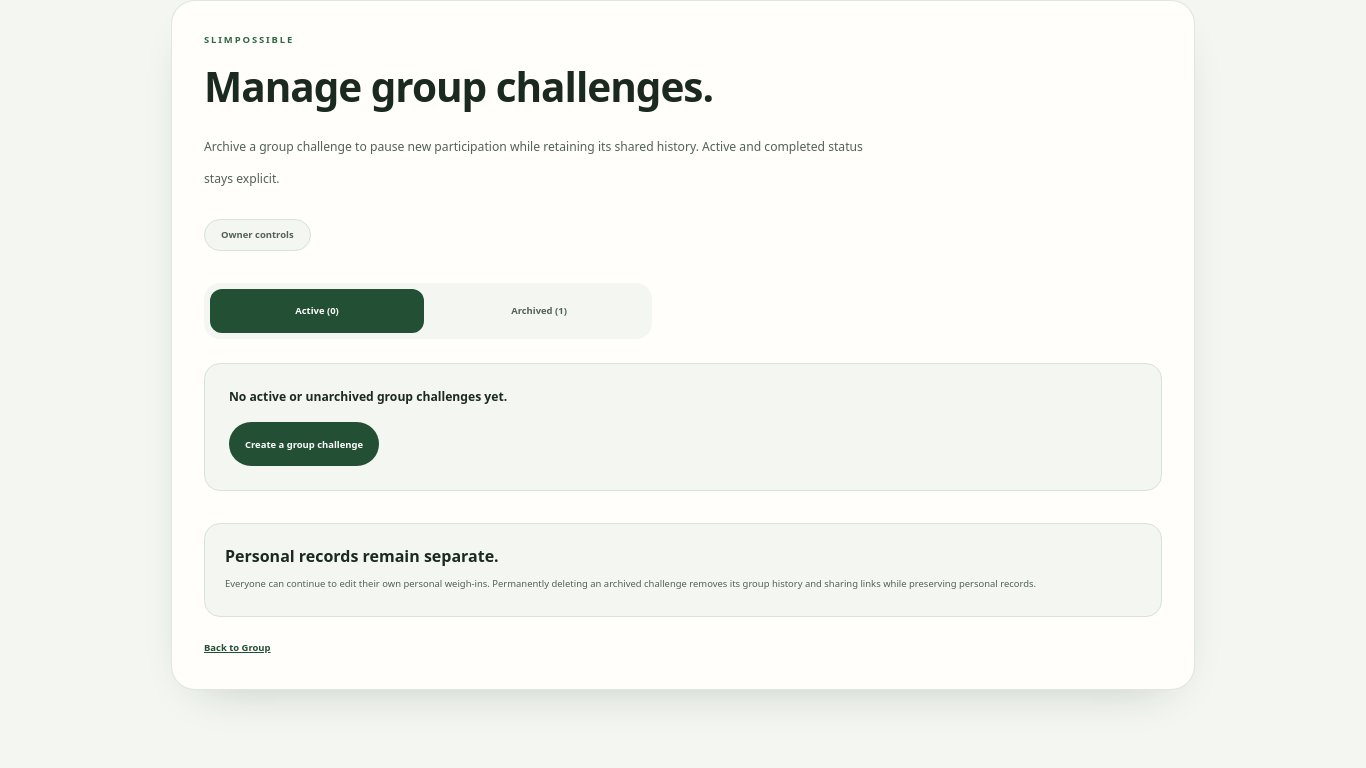
ChallengeManagementPage › requires the exact archived challenge name and removes it only after confirmed success
The image size is (1366, 768).
Step 1. Click the tab "Archived (1)" → (539, 310), box 432,288 -> 646,332
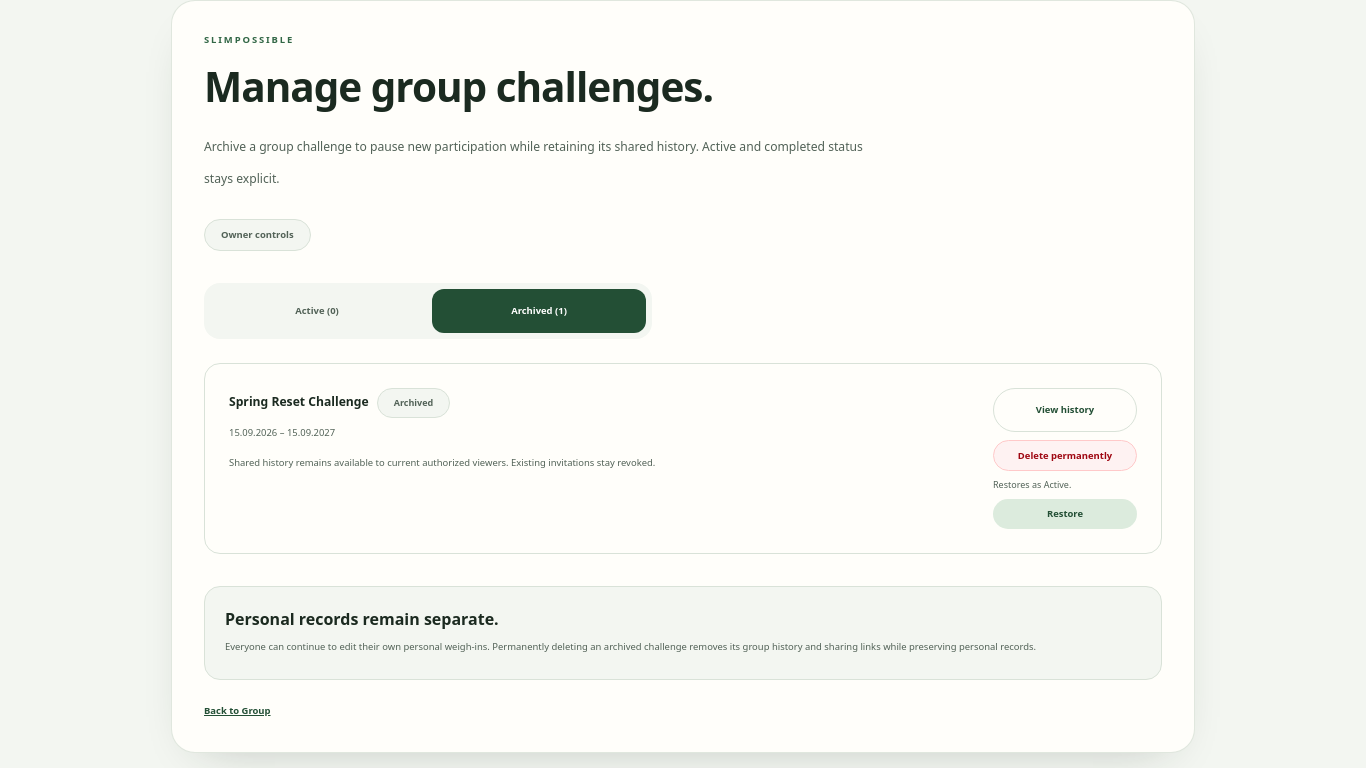
Step 2. Click the button "Delete permanently" → (1065, 455), box 993,440 -> 1137,471
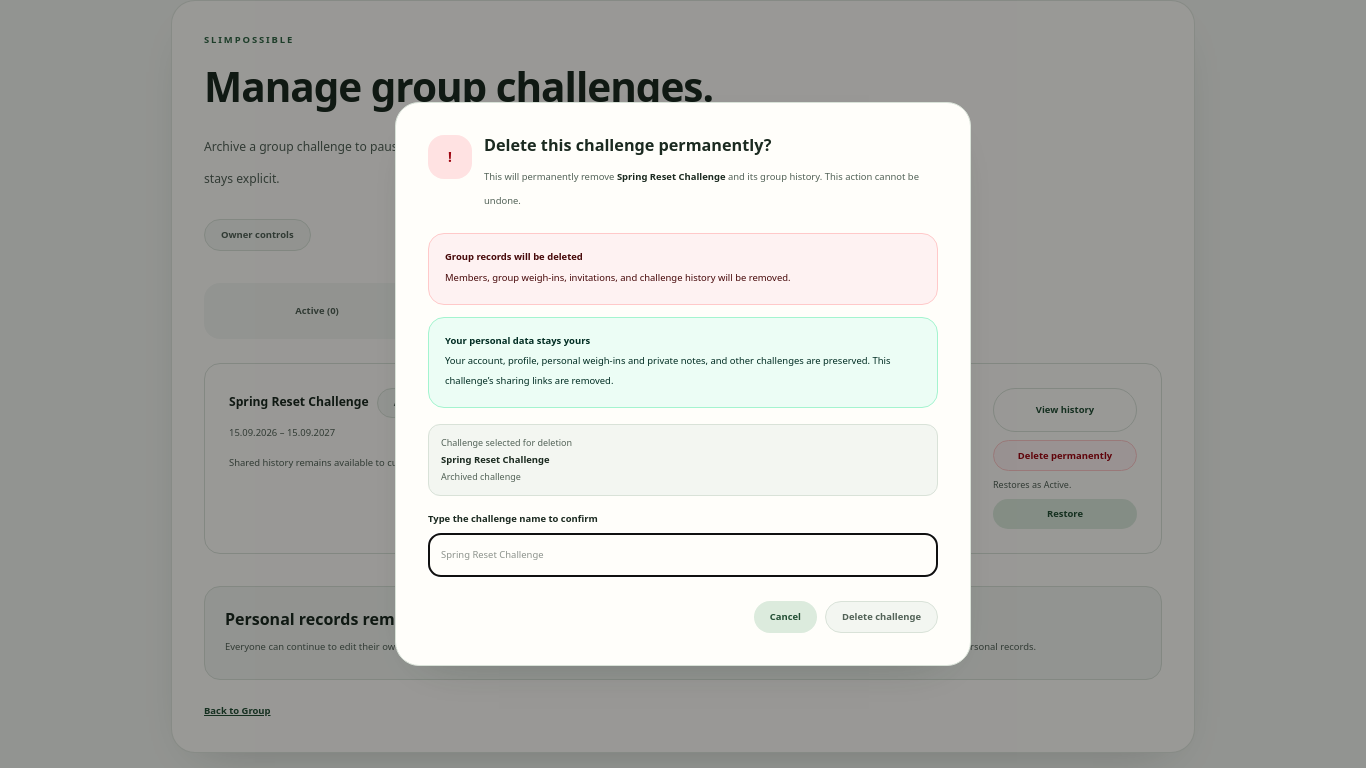
Check: the dialog "Delete this challenge permanently?" shows "Spring Reset Challenge", box 617,170 -> 726,183
Check: the dialog "Delete this challenge permanently?" shows "group history", box 484,170 -> 919,207
Check: the dialog "Delete this challenge permanently?" shows "personal weigh-ins and private notes", box 445,354 -> 890,387
Step 3. Type "spring reset challenge" into the field labelled "Type the challenge name to confirm" → (683, 555), box 428,533 -> 938,577
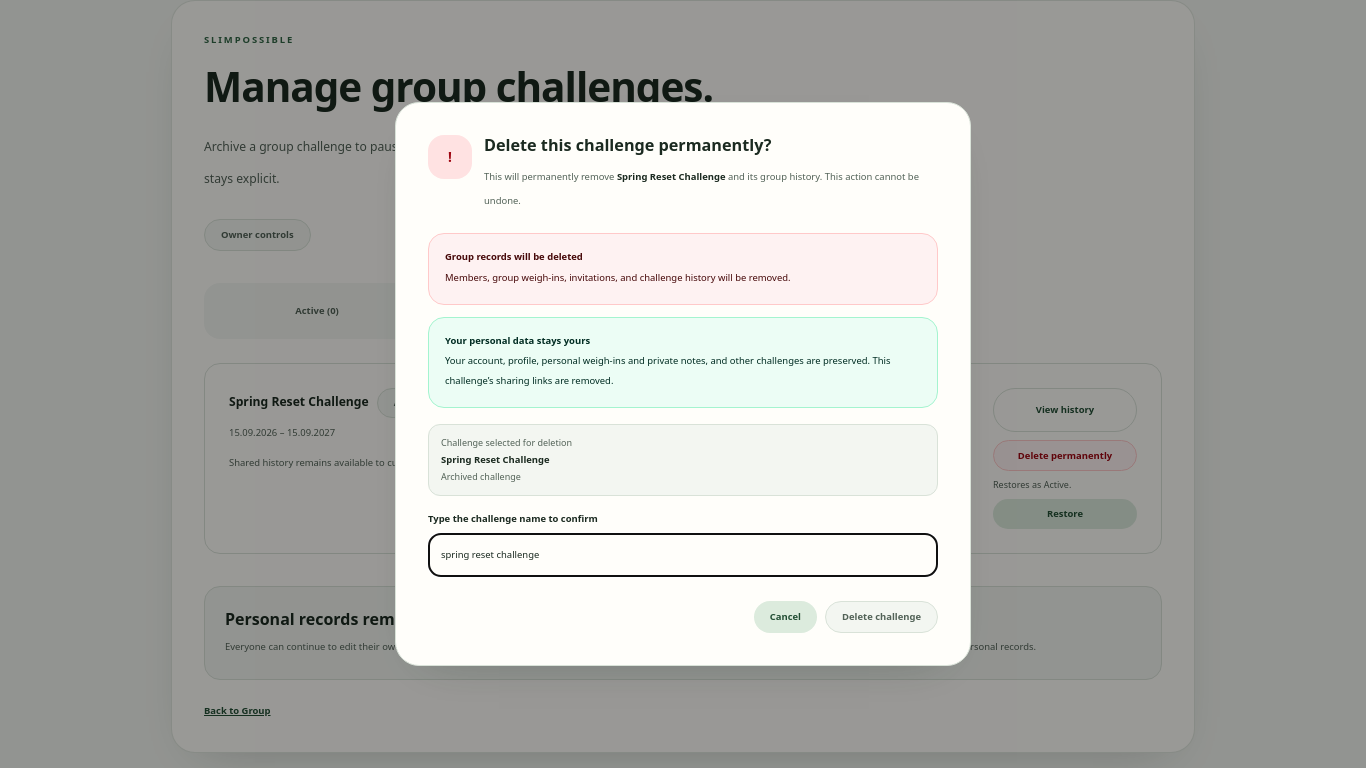
Check: the button "Delete challenge" is disabled, box 825,601 -> 938,632
Step 4. Replace the text in the field labelled "Type the challenge name to confirm" with "Spring Reset Challenge" → (683, 555), box 428,533 -> 938,577
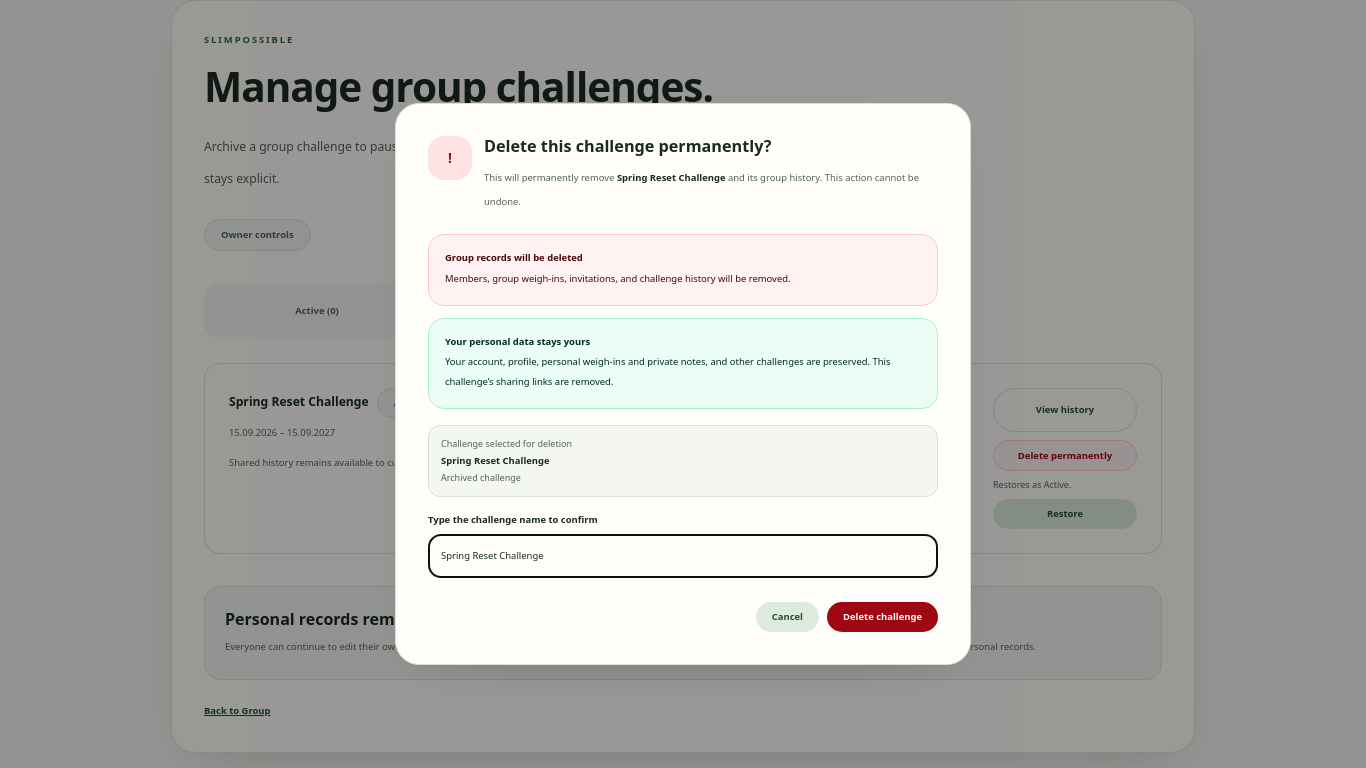
Check: the button "Delete challenge" is enabled
Step 5. Click the button "Delete challenge" → (882, 617), box 827,602 -> 938,632
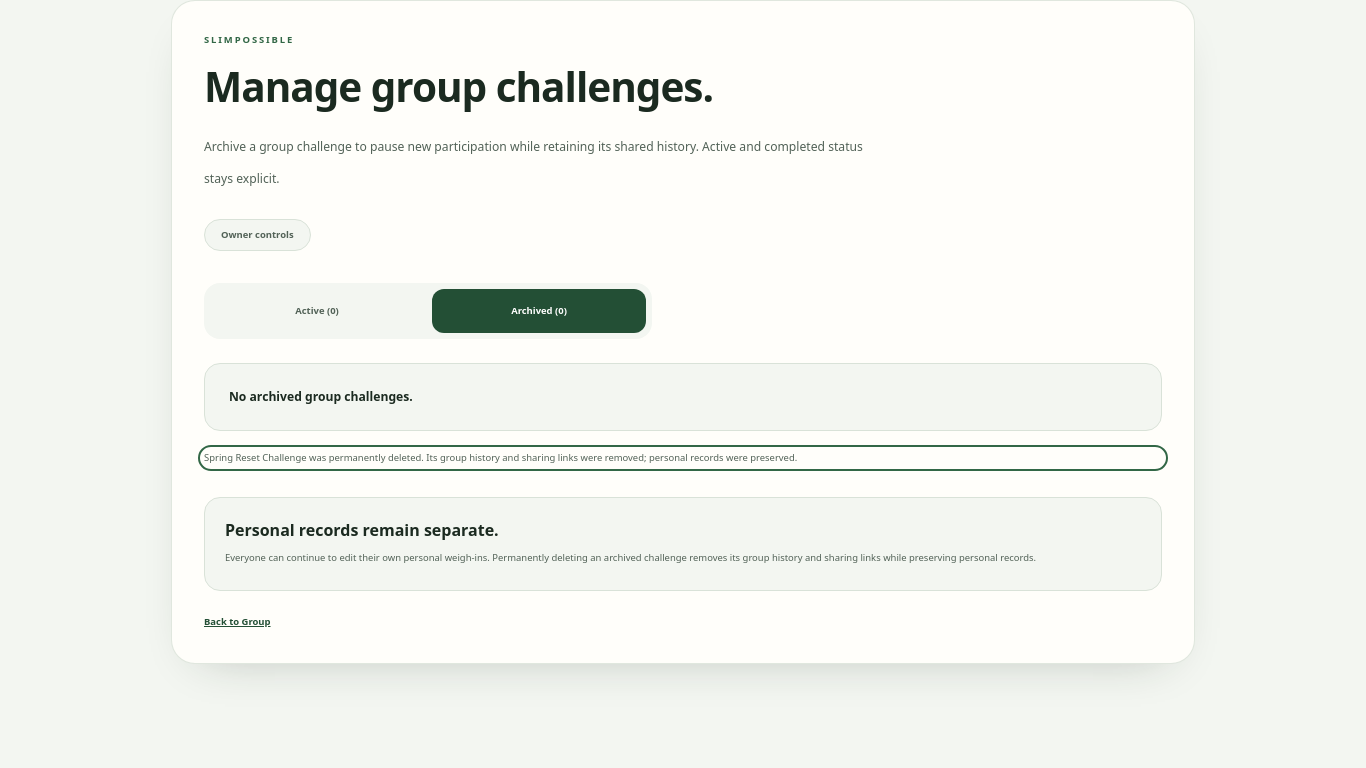
Check: the heading "No archived group challenges." is shown, box 229,388 -> 413,404
Check: the text "personal records were preserved" is shown, box 204,451 -> 797,464
Check: the dialog is gone
